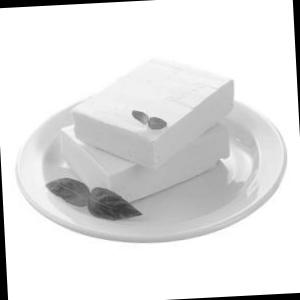butter: (33, 49, 253, 213)
